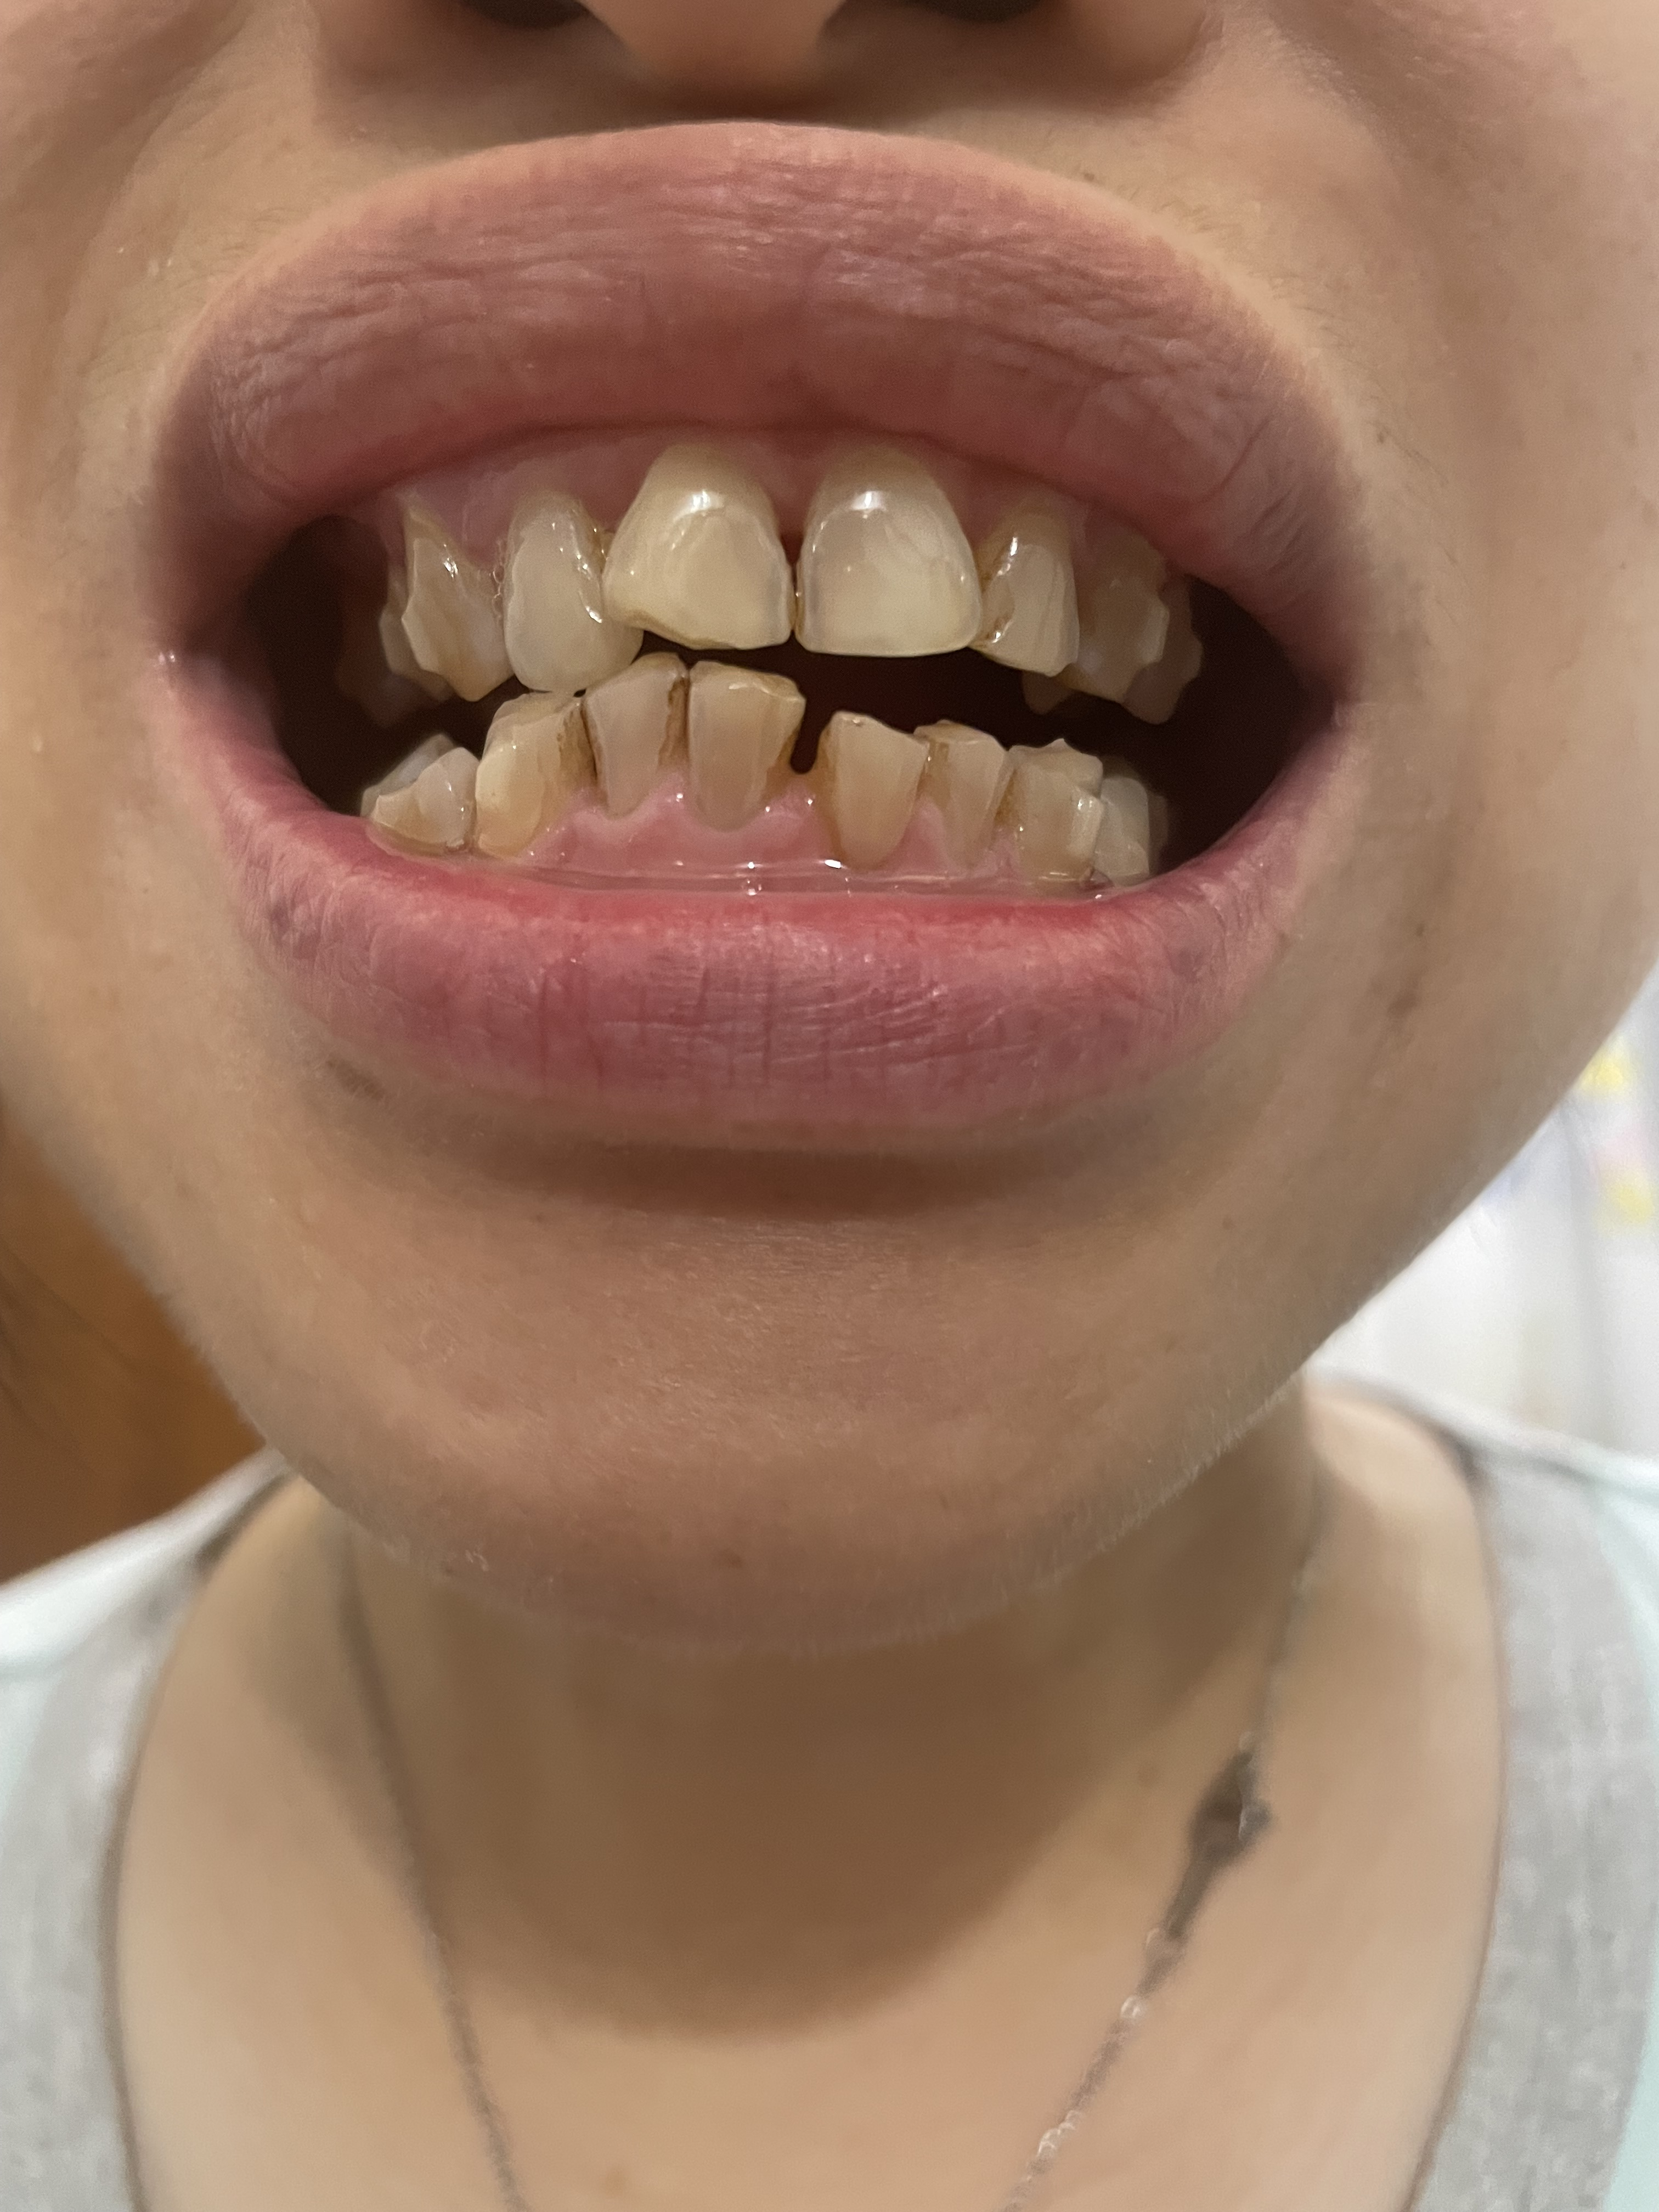teeth: (613, 451, 774, 634), (819, 477, 976, 637), (500, 486, 605, 683), (397, 519, 486, 690), (823, 721, 927, 860), (469, 698, 559, 857), (688, 681, 788, 817), (582, 655, 671, 805), (997, 510, 1072, 657), (1091, 556, 1161, 698), (1021, 761, 1103, 869), (946, 730, 993, 862)
